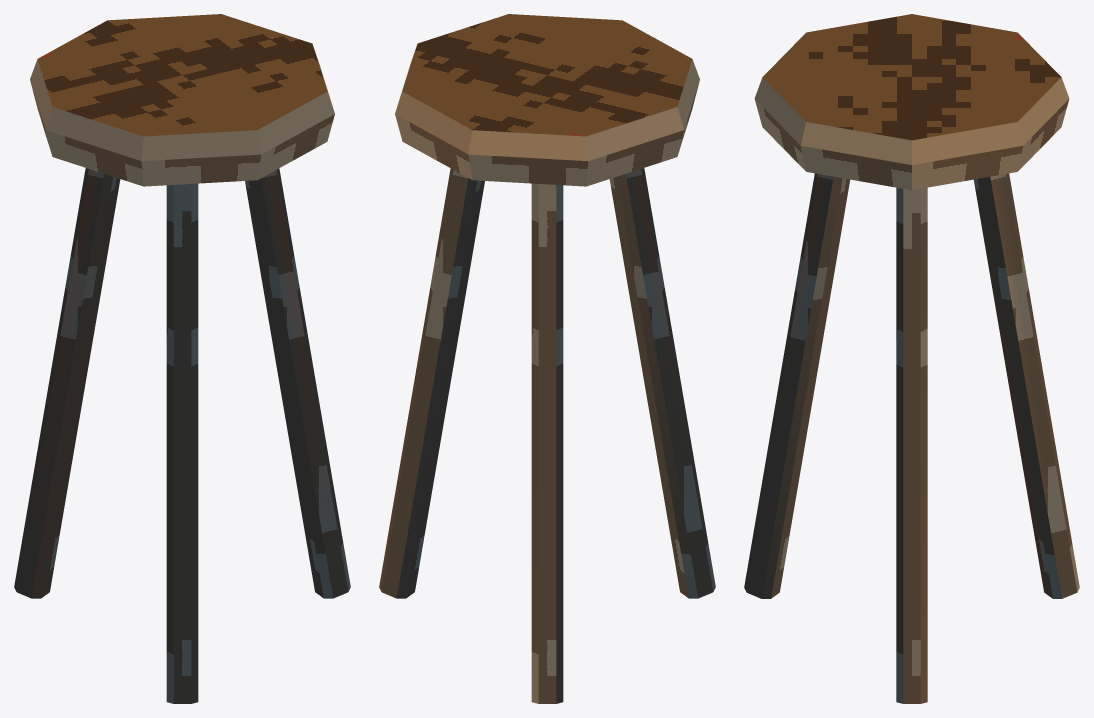
File: wprop.chair__stool.glb
The picture shows the model from 3 angles, left to right: view 1: azimuth 30°, elevation 25°; view 2: azimuth 150°, elevation 25°; view 3: azimuth 270°, elevation 25°; orthographic projection.
Visible parts, largest first — view 1: kit_legs, kit_seat; view 2: kit_legs, kit_seat; view 3: kit_legs, kit_seat.
Boxes of the visible parts, x1,y1,x2,y2 form: kit_legs: [14, 168, 350, 703]; kit_seat: [30, 14, 334, 186]; kit_legs: [379, 168, 715, 703]; kit_seat: [395, 14, 699, 186]; kit_legs: [744, 173, 1079, 703]; kit_seat: [754, 14, 1069, 190].
Size of the model in its own units: 0.4397 by 0.7734 by 0.4264.
2 materials, 2 textured.
